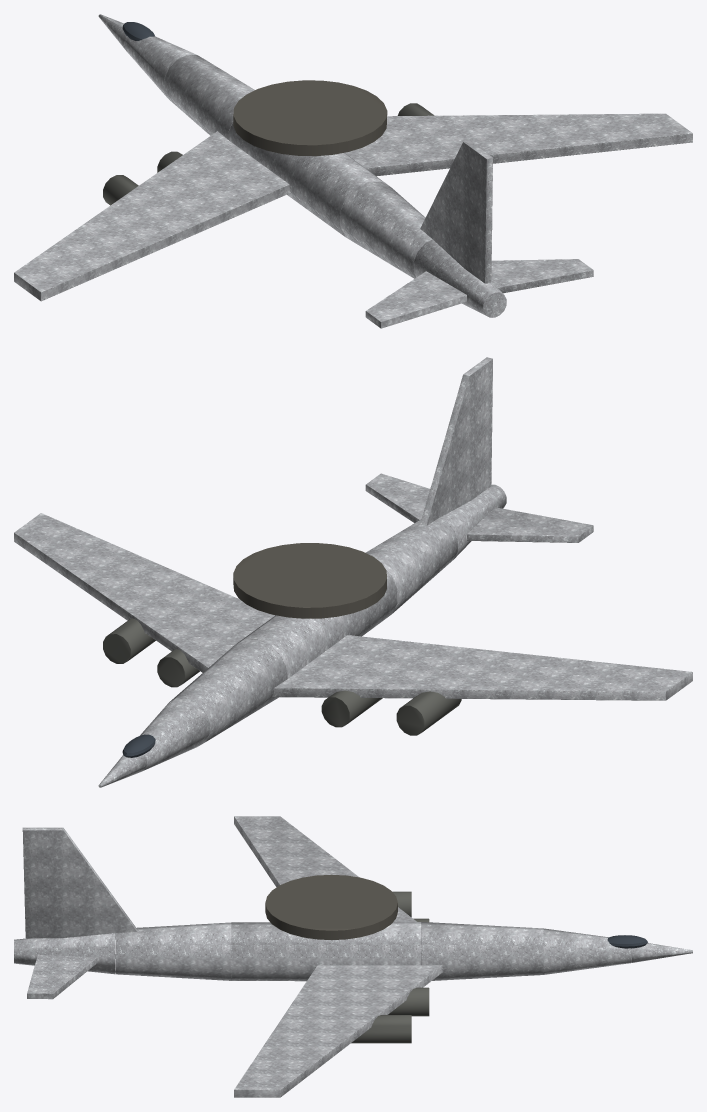
File: aew_e3_us_aewc_LOD1.glb
3 views of the same model, one above another, from view 1: azimuth 30°, elevation 25°; view 2: azimuth 150°, elevation 25°; view 3: azimuth 270°, elevation 25° (orthographic). The views are drawn at different scales.
Parts seen in each view (by area): view 1: aew_e3_us_aewc_LOD1_body, aew_e3_us_aewc_LOD1_deck, aew_e3_us_aewc_LOD1_gun; view 2: aew_e3_us_aewc_LOD1_body, aew_e3_us_aewc_LOD1_deck, aew_e3_us_aewc_LOD1_gun; view 3: aew_e3_us_aewc_LOD1_body, aew_e3_us_aewc_LOD1_deck, aew_e3_us_aewc_LOD1_gun, aew_e3_us_aewc_LOD1_glass.
Boxes of the visible parts, bbox=[...] form: aew_e3_us_aewc_LOD1_body: bbox=[14, 14, 692, 328]; aew_e3_us_aewc_LOD1_deck: bbox=[233, 80, 387, 156]; aew_e3_us_aewc_LOD1_gun: bbox=[103, 103, 434, 205]; aew_e3_us_aewc_LOD1_body: bbox=[14, 357, 692, 787]; aew_e3_us_aewc_LOD1_deck: bbox=[233, 543, 386, 618]; aew_e3_us_aewc_LOD1_gun: bbox=[103, 618, 461, 735]; aew_e3_us_aewc_LOD1_body: bbox=[14, 816, 692, 1097]; aew_e3_us_aewc_LOD1_deck: bbox=[265, 874, 397, 940]; aew_e3_us_aewc_LOD1_gun: bbox=[351, 891, 429, 1043]; aew_e3_us_aewc_LOD1_glass: bbox=[607, 935, 647, 948].
Bounding box in the file's own units: 44.39 × 11.48 × 46.6.
Materials: 4 (1 with a texture image).
